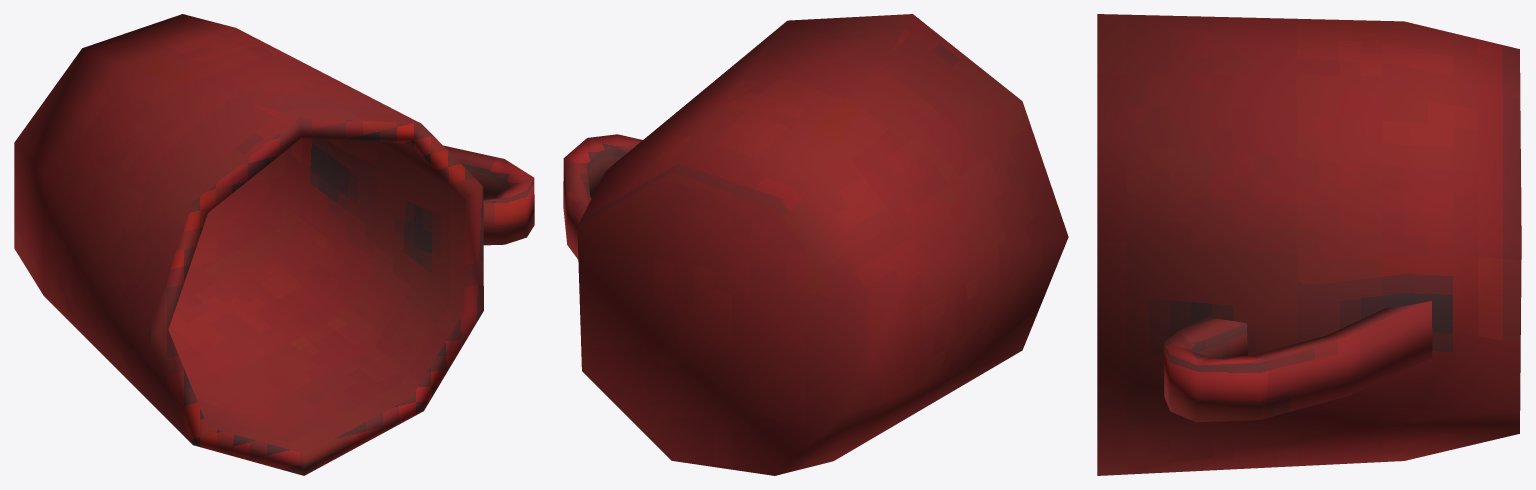
Rendered from nt_2020_dish_mug_LOD1.obj.
3 renders of one model, left to right at view 1: azimuth 30°, elevation 25°; view 2: azimuth 150°, elevation 25°; view 3: azimuth 270°, elevation 25°, orthographic. The views are drawn at different scales.
Parts seen in each view (by area): view 1: mtl_nt_2020_dish_mug_01; view 2: mtl_nt_2020_dish_mug_01; view 3: mtl_nt_2020_dish_mug_01.
Part boxes in pixels (box(x1,y1,x2,y2)): mtl_nt_2020_dish_mug_01: box(14, 14, 534, 475); mtl_nt_2020_dish_mug_01: box(563, 14, 1068, 475); mtl_nt_2020_dish_mug_01: box(1097, 14, 1521, 475).
Bounding box in the file's own units: 12.56 × 10.09 × 8.98.
